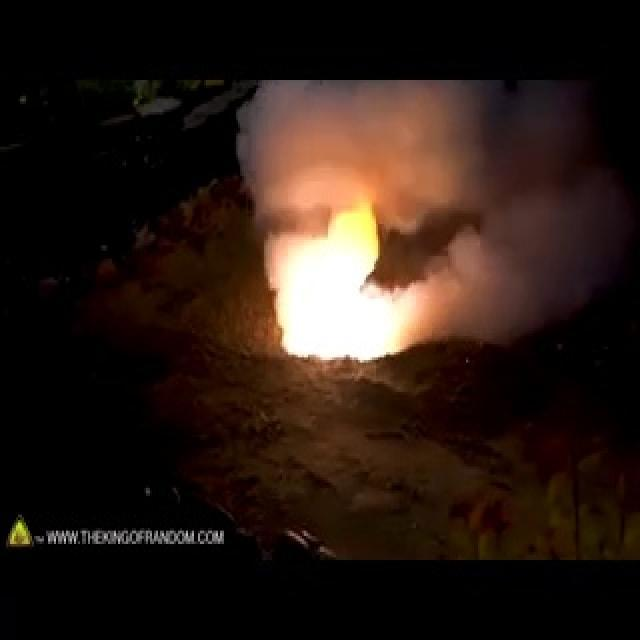fire: (234, 206, 412, 382)
